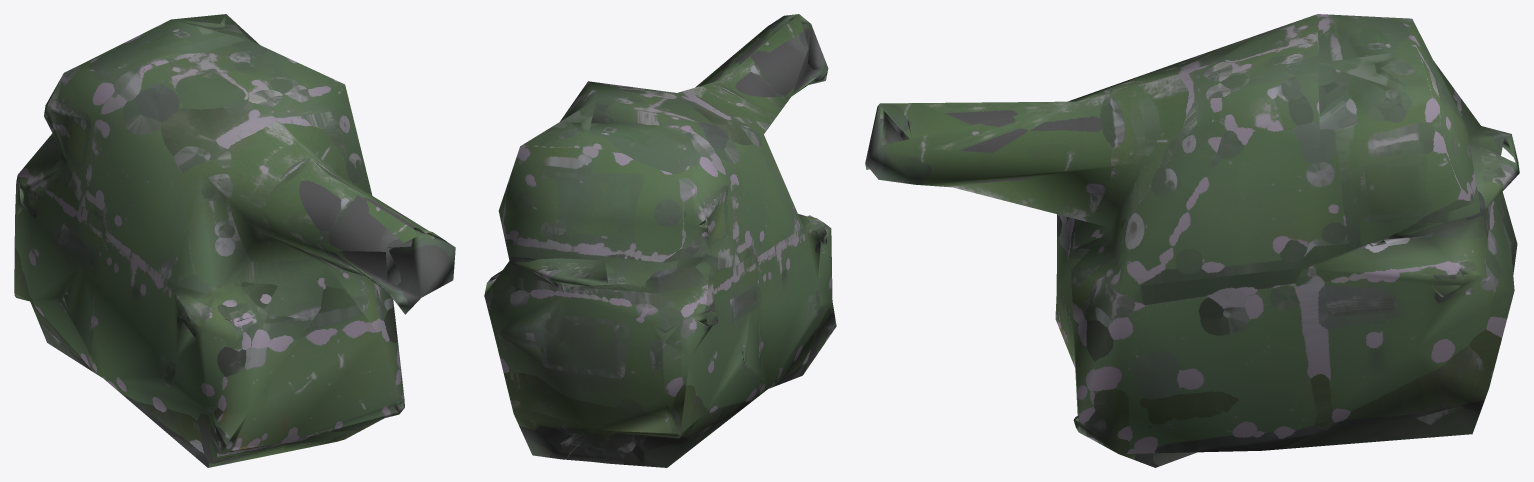
File: hullweapon-b-pixal-lod2.glb
3 renders of one model, left to right at view 1: azimuth 30°, elevation 25°; view 2: azimuth 150°, elevation 25°; view 3: azimuth 270°, elevation 25°, orthographic. The views are drawn at different scales.
Parts seen in each view (by area): view 1: Body; view 2: Body; view 3: Body.
Part boxes in pixels (box(x1,y1,x2,y2)): Body: box(14, 14, 455, 467); Body: box(484, 14, 836, 467); Body: box(865, 14, 1519, 467).
Bounding box in the file's own units: 0.7572 × 1.11 × 1.66.
1 material, 1 textured.
